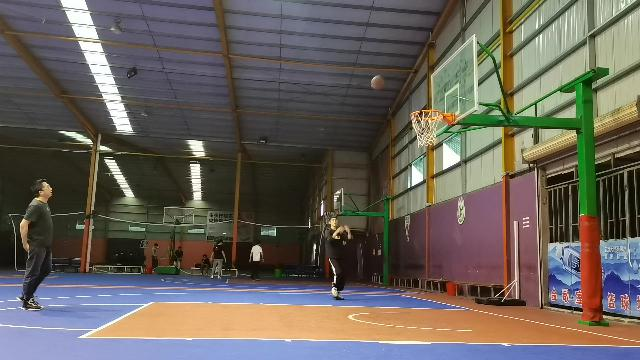ball: (370, 76, 386, 90)
basket: (410, 109, 444, 147)
